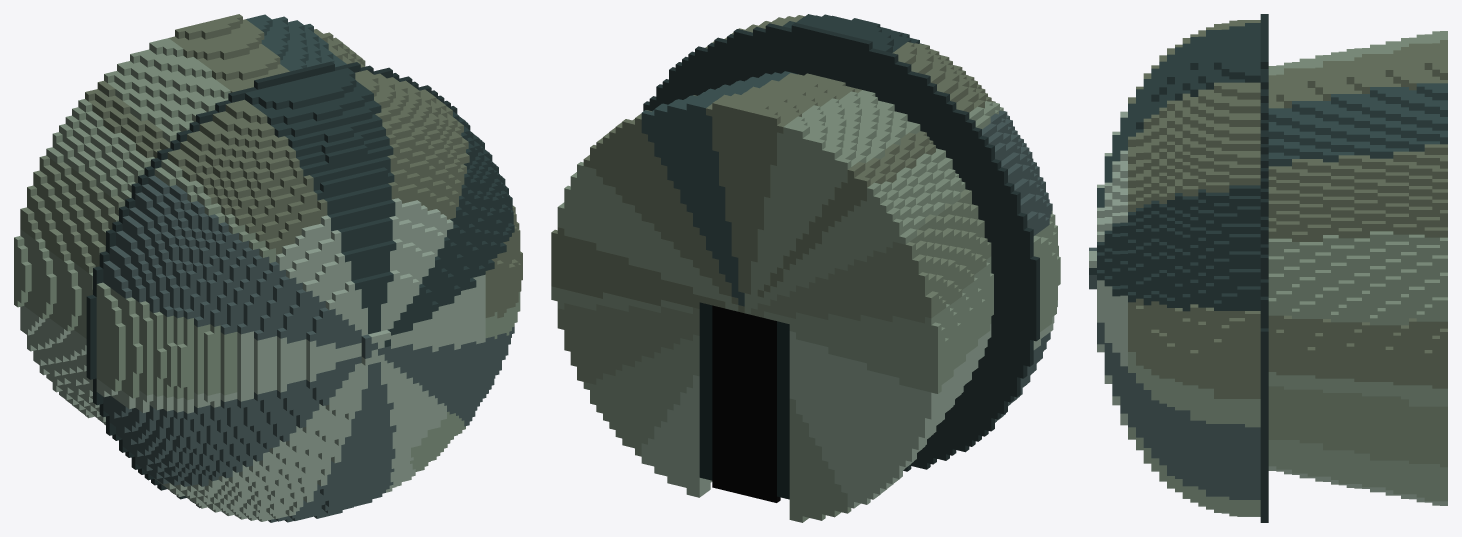
Rendered from tent_gray_1.obj.
3 views of the same model, side by side, from view 1: azimuth 30°, elevation 25°; view 2: azimuth 150°, elevation 25°; view 3: azimuth 270°, elevation 25° (orthographic). The views are drawn at different scales.
Size of the model in its own units: 6.4 by 6.4 by 4.6.
Materials: 1 (1 with a texture image).
